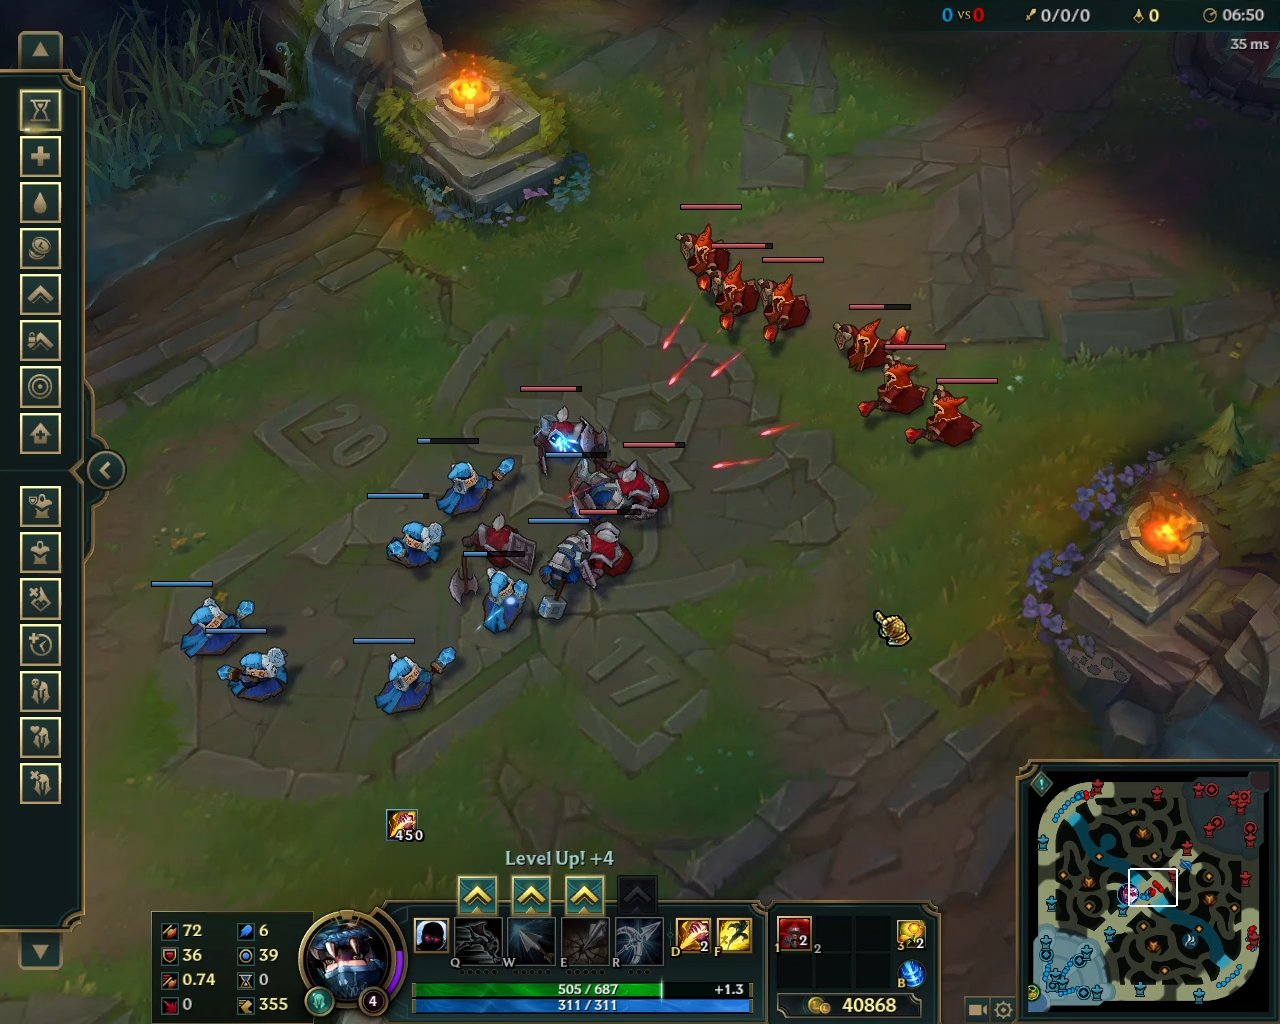EnemyMinion: (519, 386, 609, 472), (854, 343, 950, 423), (905, 376, 998, 452), (601, 440, 686, 520), (830, 302, 915, 376), (708, 241, 775, 335), (673, 203, 742, 294), (757, 255, 824, 347), (569, 507, 642, 592)
